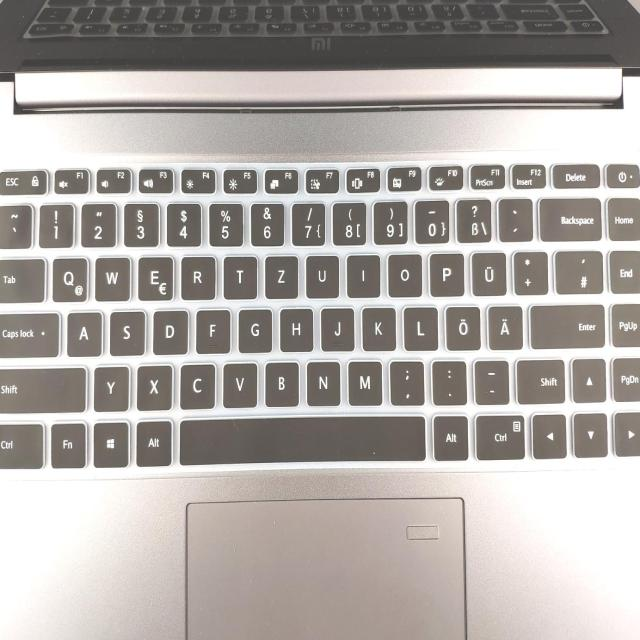0: (412, 196, 449, 243)
1: (36, 200, 73, 246)
2: (78, 199, 116, 247)
3: (121, 200, 158, 246)
4: (164, 199, 201, 245)
5: (206, 199, 243, 245)
6: (247, 199, 284, 244)
7: (289, 199, 324, 245)
8: (329, 199, 366, 244)
9: (370, 198, 407, 244)
a: (65, 308, 102, 356)
accent: (495, 194, 531, 239)
ae: (485, 302, 522, 349)
alt-left: (134, 417, 171, 465)
altgr-right: (431, 412, 468, 459)
b: (262, 357, 299, 404)
c: (177, 360, 215, 408)
comma: (387, 356, 423, 403)
d: (150, 306, 187, 353)
del: (536, 193, 600, 240)
e: (135, 253, 173, 300)
enter: (526, 301, 603, 347)
f: (194, 305, 230, 352)
g: (236, 305, 271, 351)
h: (277, 304, 312, 350)
hash: (552, 247, 602, 292)
i: (344, 251, 379, 296)
j: (319, 304, 354, 350)
k: (360, 303, 396, 350)
keyboard: (0, 144, 640, 477)
l: (401, 302, 438, 349)
m: (345, 356, 382, 404)
minus: (471, 356, 508, 402)
n: (304, 357, 341, 404)
o: (385, 250, 421, 295)
oe: (443, 302, 480, 349)
p: (426, 249, 463, 295)
plus: (510, 247, 547, 293)
point: (429, 356, 466, 403)
q: (49, 253, 87, 301)
r: (179, 253, 215, 299)
s: (107, 307, 145, 354)
shift-left: (0, 361, 86, 412)
shift-lock: (0, 307, 58, 355)
shift-right: (514, 355, 565, 402)
space: (174, 412, 424, 462)
ss: (453, 196, 490, 241)
strg-left: (0, 420, 43, 468)
strg-right: (473, 411, 525, 458)
t: (221, 252, 256, 297)
tab: (0, 254, 43, 301)
u: (303, 252, 338, 297)
ue: (468, 248, 505, 294)
v: (220, 358, 257, 406)
w: (92, 252, 130, 300)
x: (135, 361, 172, 409)
y: (92, 362, 130, 410)
z: (263, 252, 298, 297)
